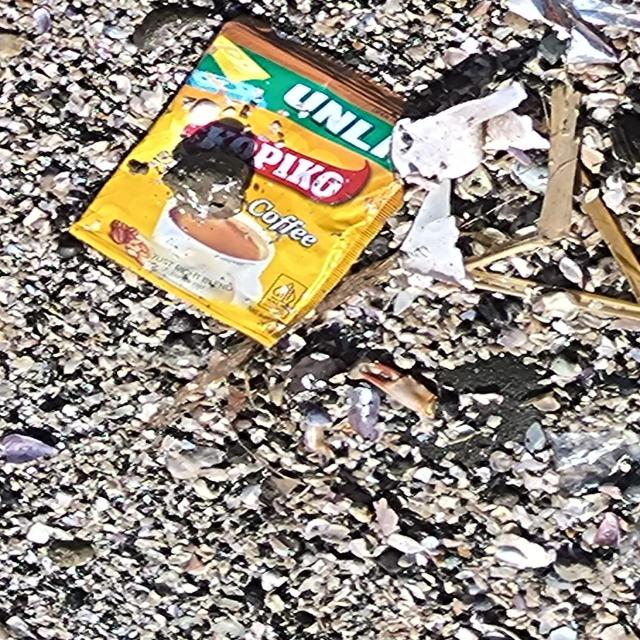plastic_waste: (67, 11, 429, 355)
